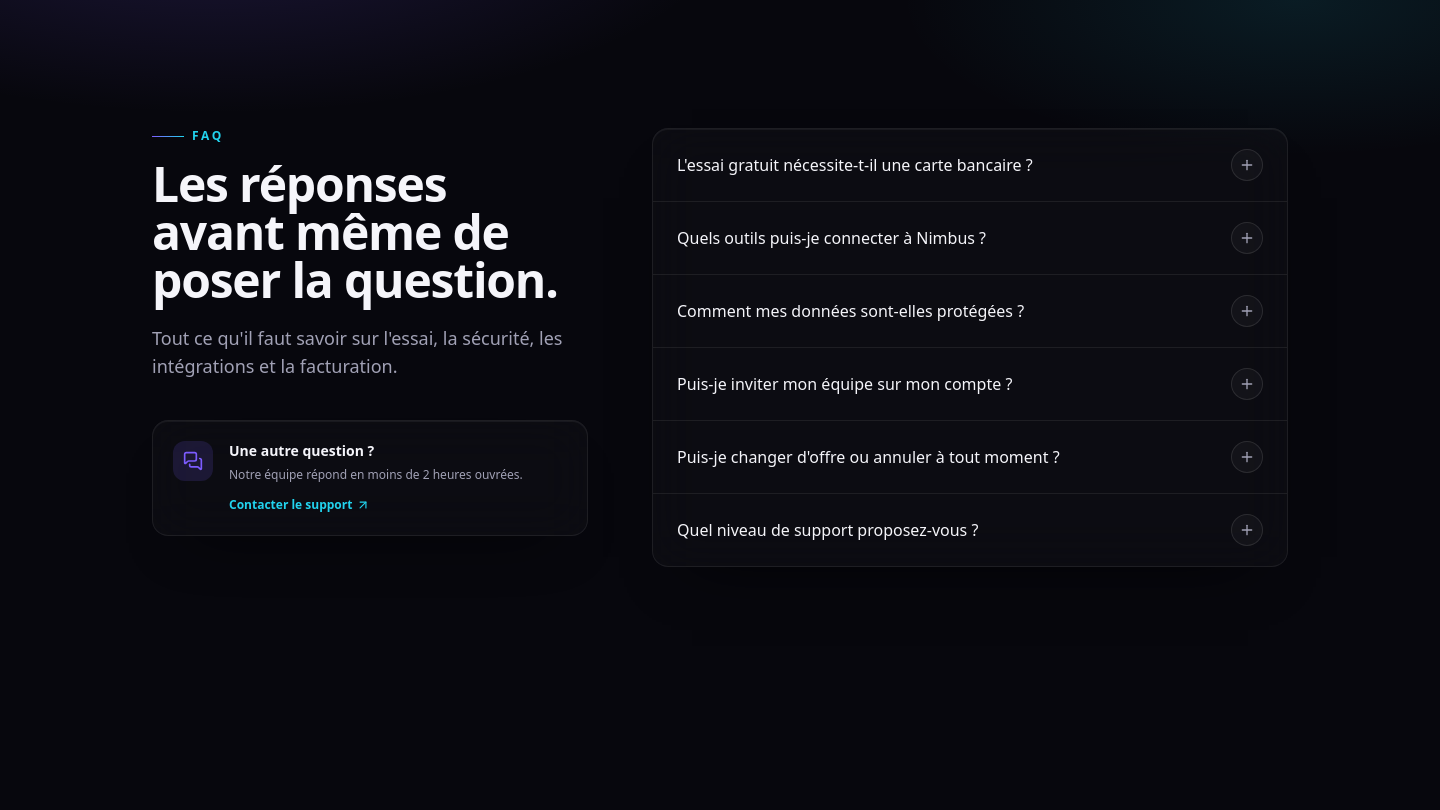
Faq (accordéon) › ouvre une question au clic et affiche sa réponse
Click the button "L'essai gratuit nécessite-t-il une carte bancaire ?".
click(970, 165)  # box [653, 129, 1287, 201]
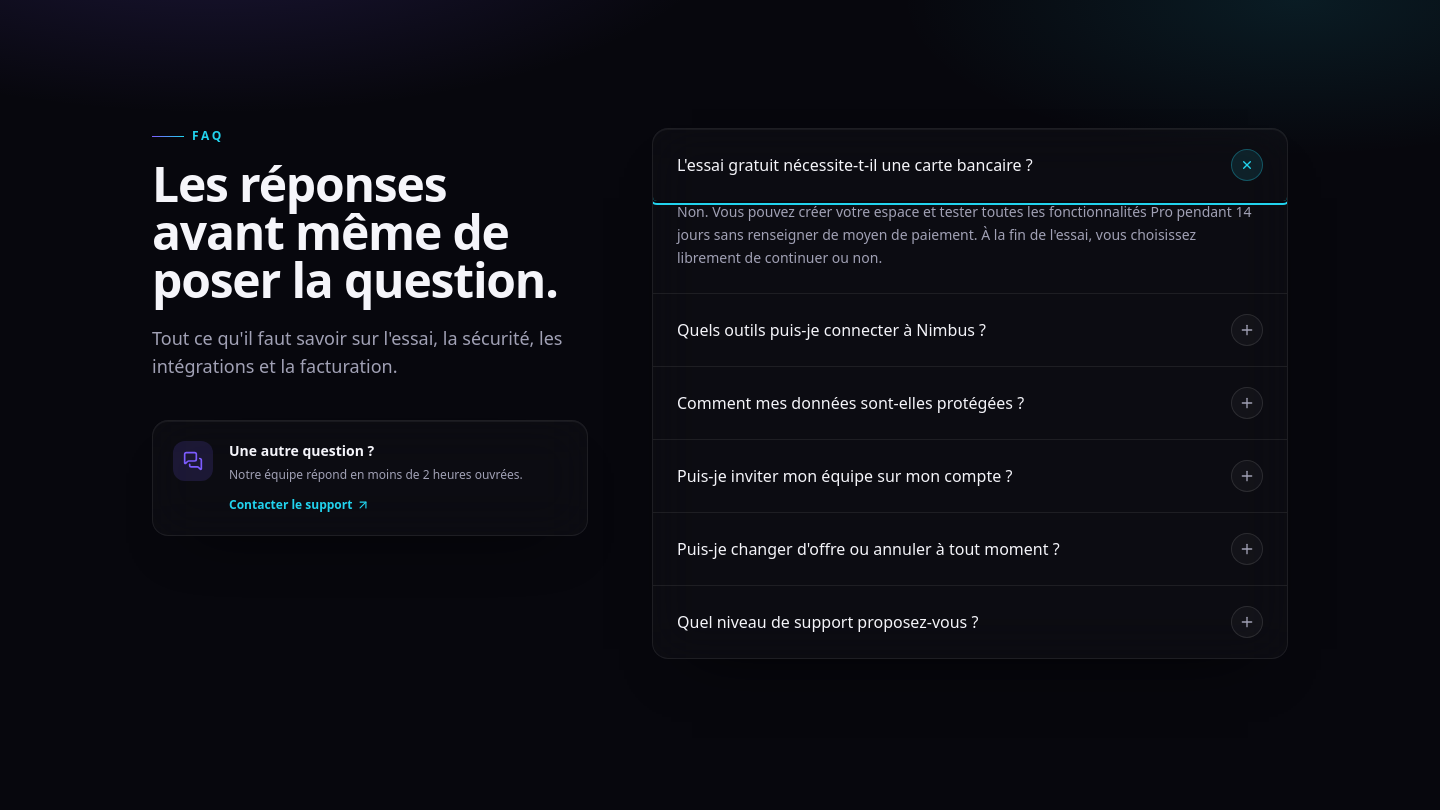
Expected: the button "L'essai gratuit nécessite-t-il une carte bancaire ?" is expanded, [653, 129, 1287, 201]
Expected: the text "Non. Vous pouvez créer votre espace et tester toutes les fonctionnalités Pro pendant 14 jours sans renseigner de moyen d" is shown, [677, 202, 1252, 266]
